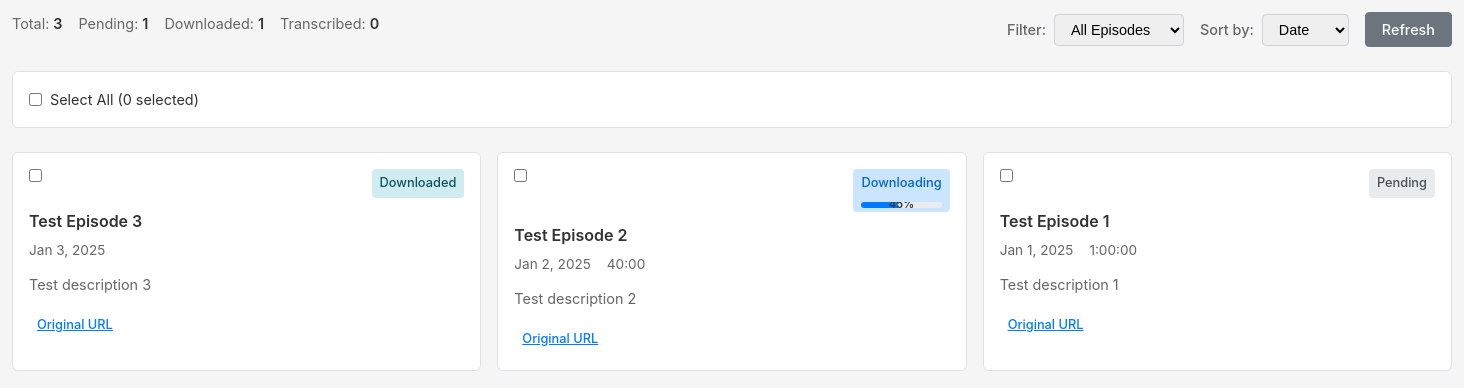
Test case: EpisodeList › filters episodes by status
Select "Pending" in the dropdown labelled "Filter:": (1119, 30) [1054,14,1184,46]
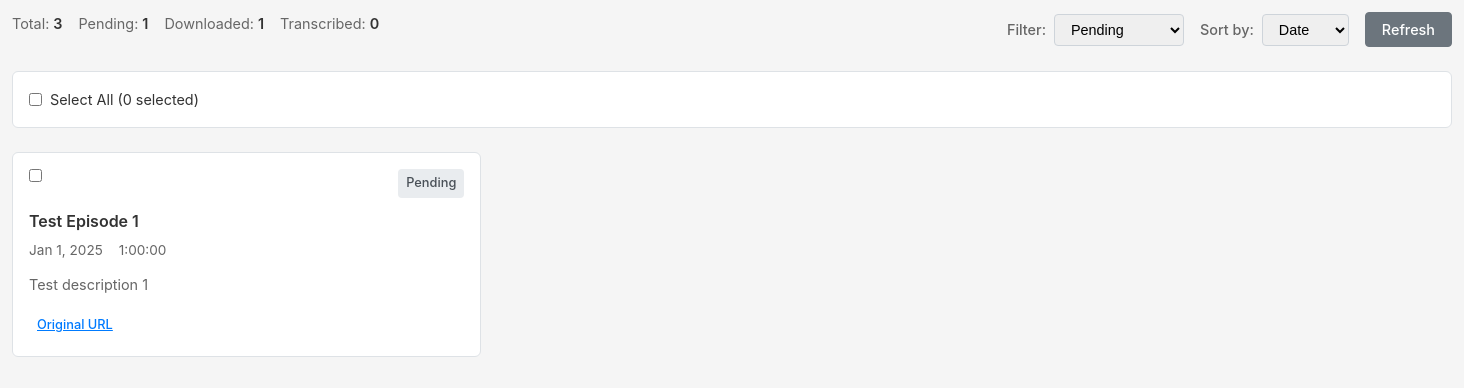
Expected: the heading "Test Episode 1" is shown, [29,210,139,230]
Expected: the heading "Test Episode 2" is gone
Expected: the heading "Test Episode 3" is gone
